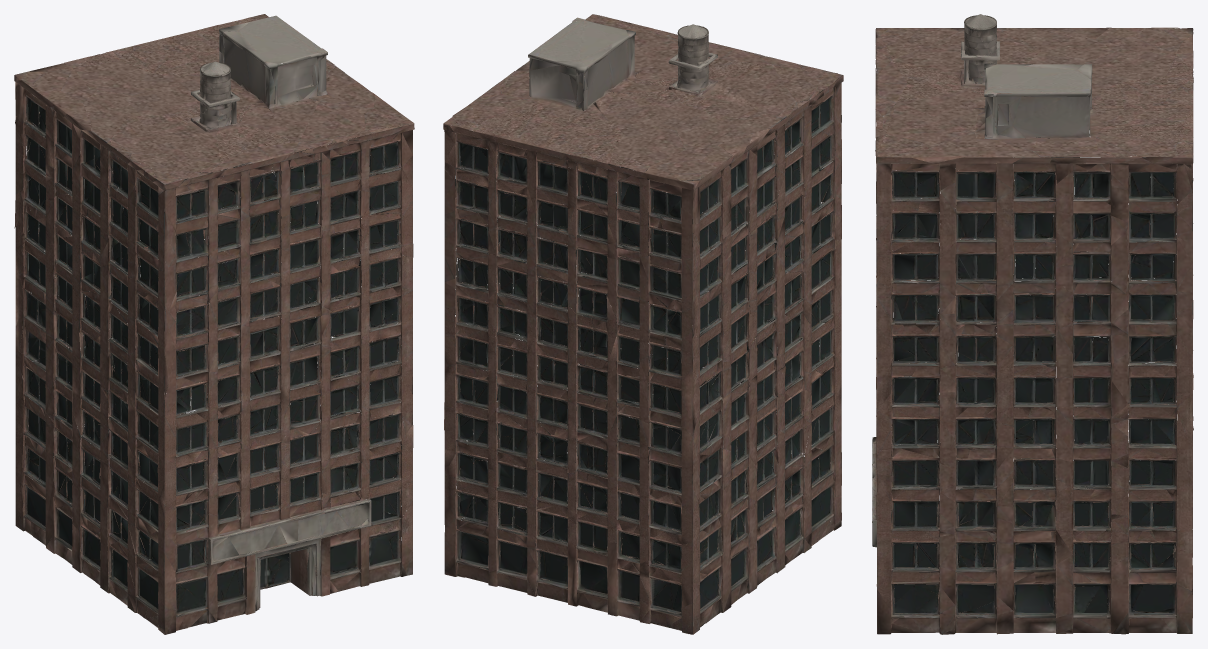
File: tower-02-brick-highrise.glb
3 renders of one model, left to right at view 1: azimuth 30°, elevation 25°; view 2: azimuth 150°, elevation 25°; view 3: azimuth 270°, elevation 25°, orthographic. The views are drawn at different scales.
Parts seen in each view (by area): view 1: Mesh_0; view 2: Mesh_0; view 3: Mesh_0.
Boxes of the visible parts, <box> form: Mesh_0: <box>14,14,414,634</box>; Mesh_0: <box>443,14,843,634</box>; Mesh_0: <box>872,14,1193,634</box>.
Size of the model in its own units: 0.9741 by 1.91 by 1.02.
Materials: 1 (1 with a texture image).
